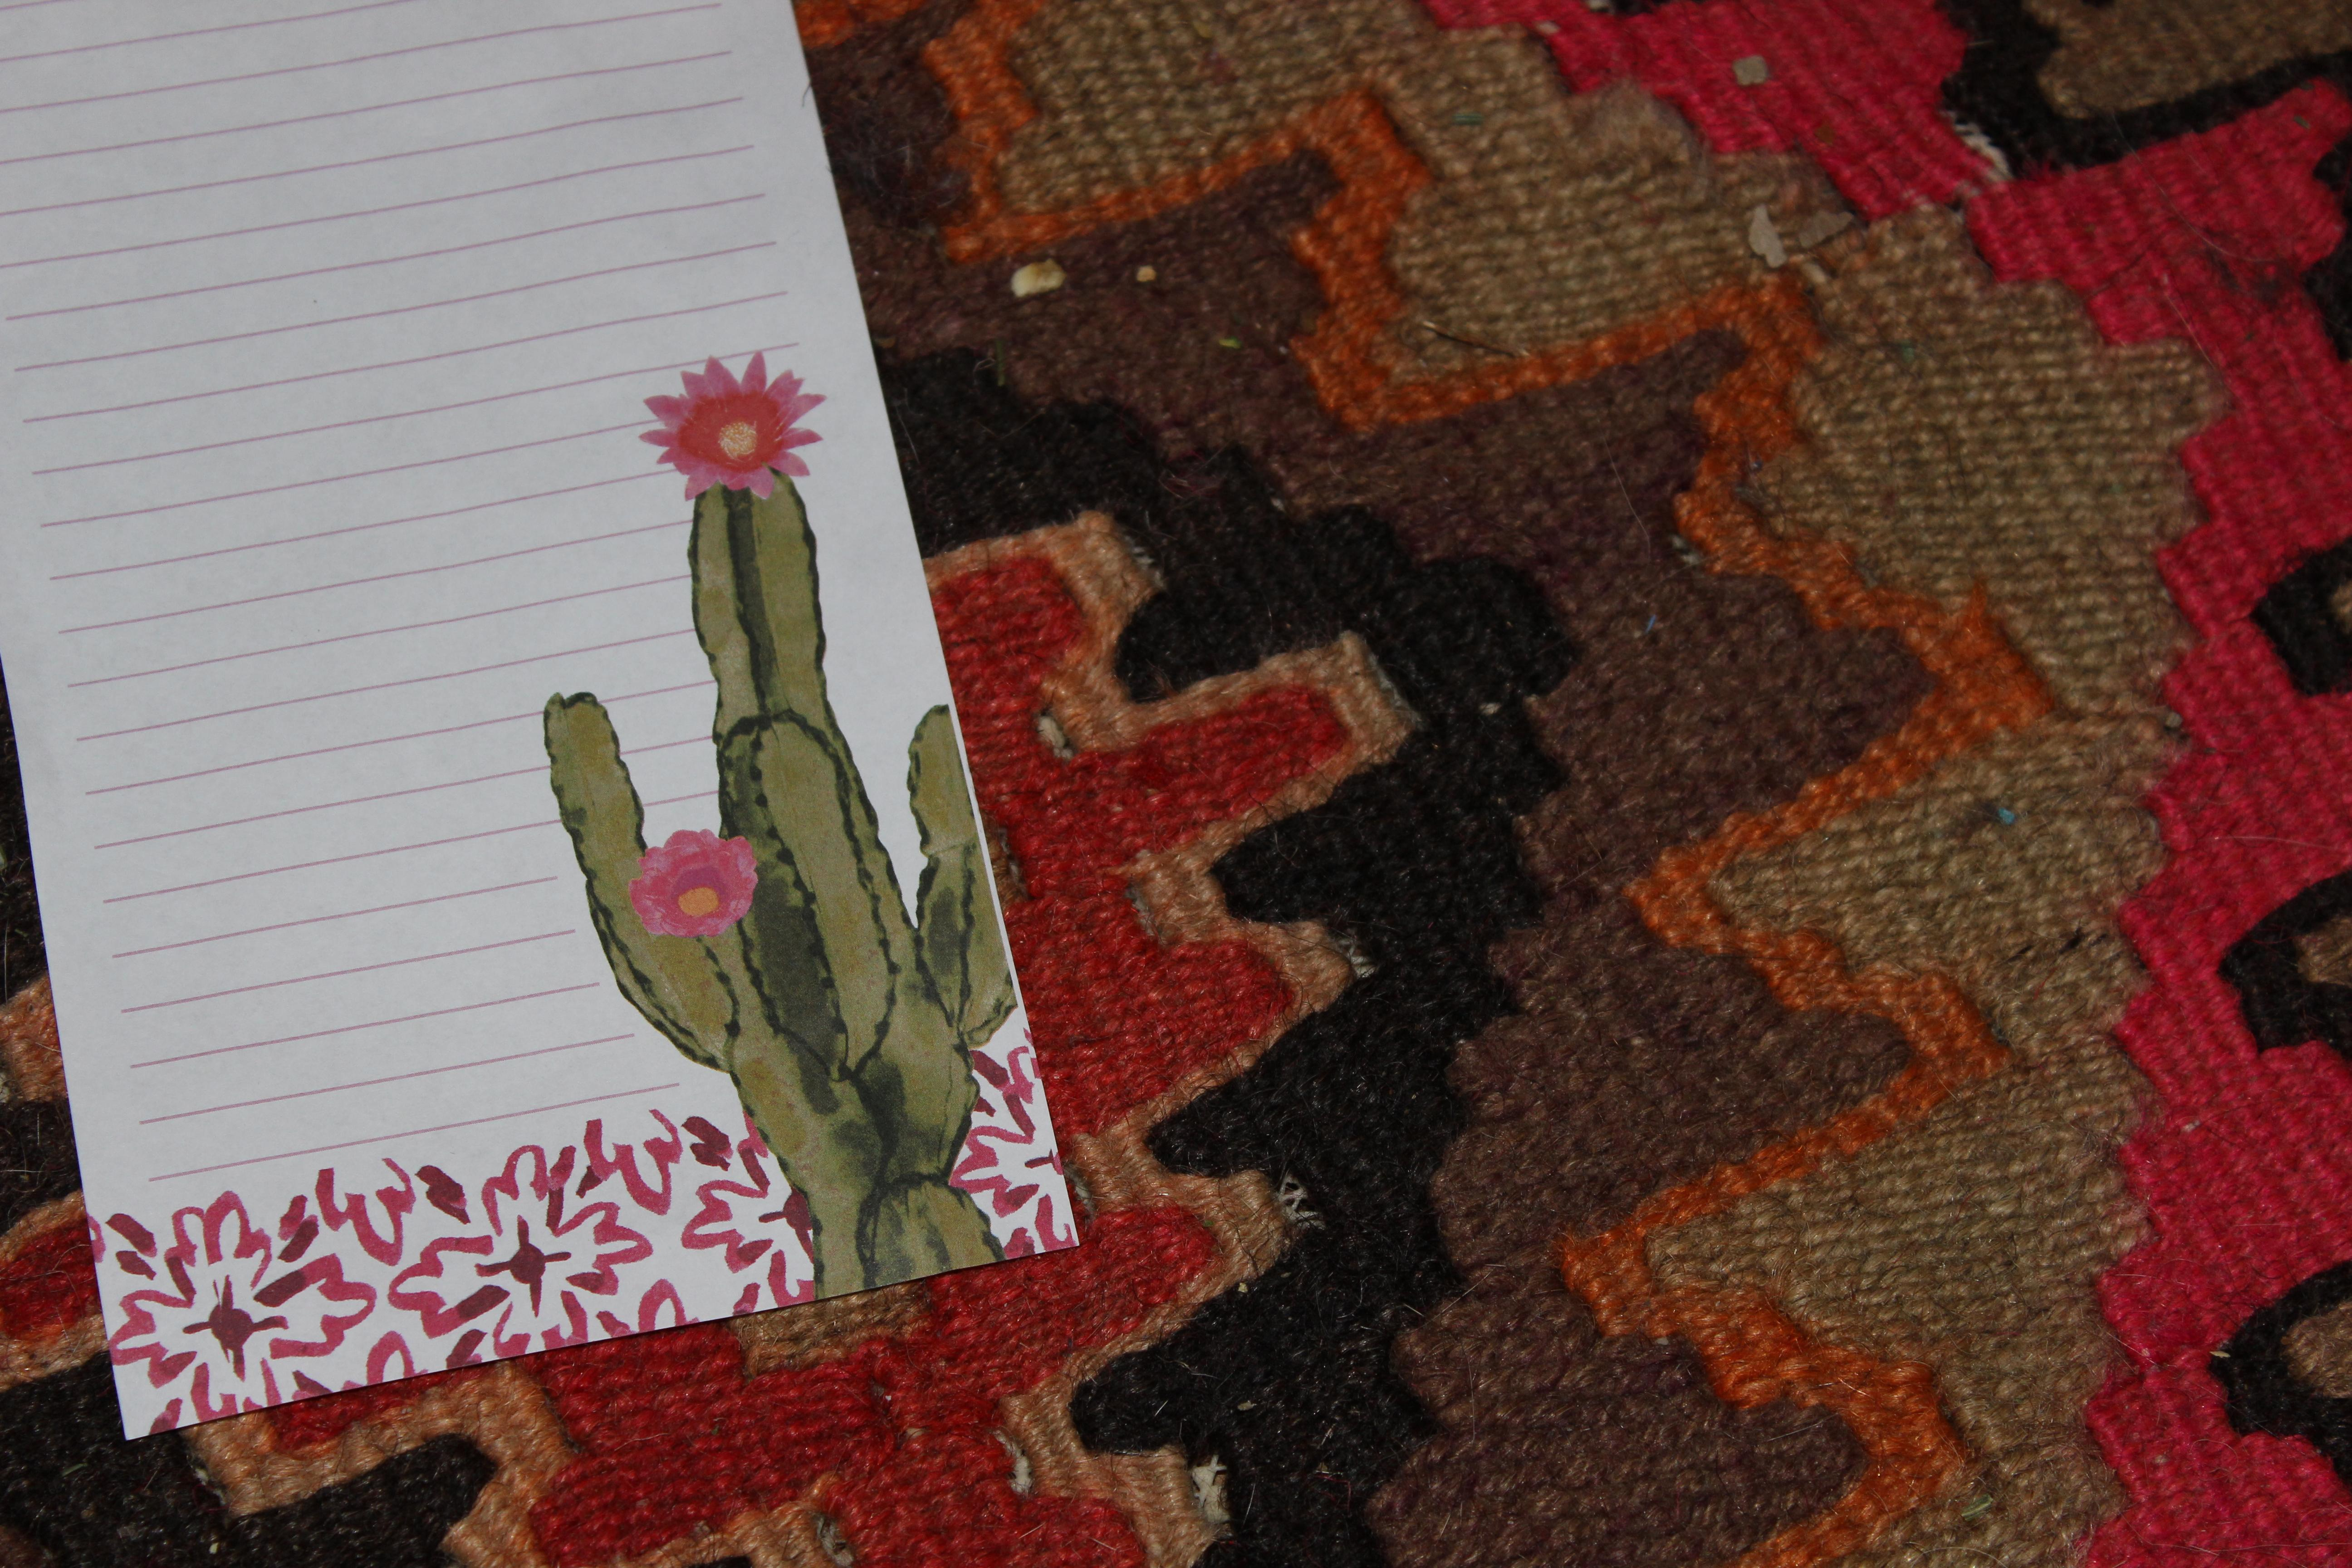cactusPaper: (3, 0, 1141, 1479)
